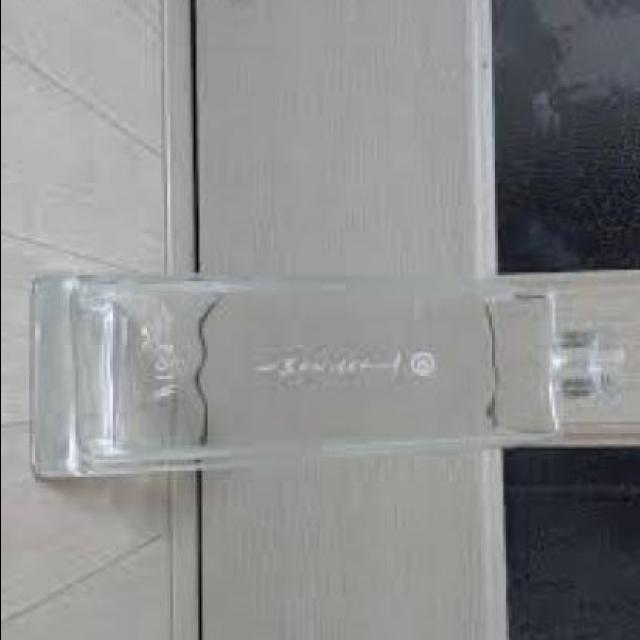kaca: (31, 272, 620, 482)
